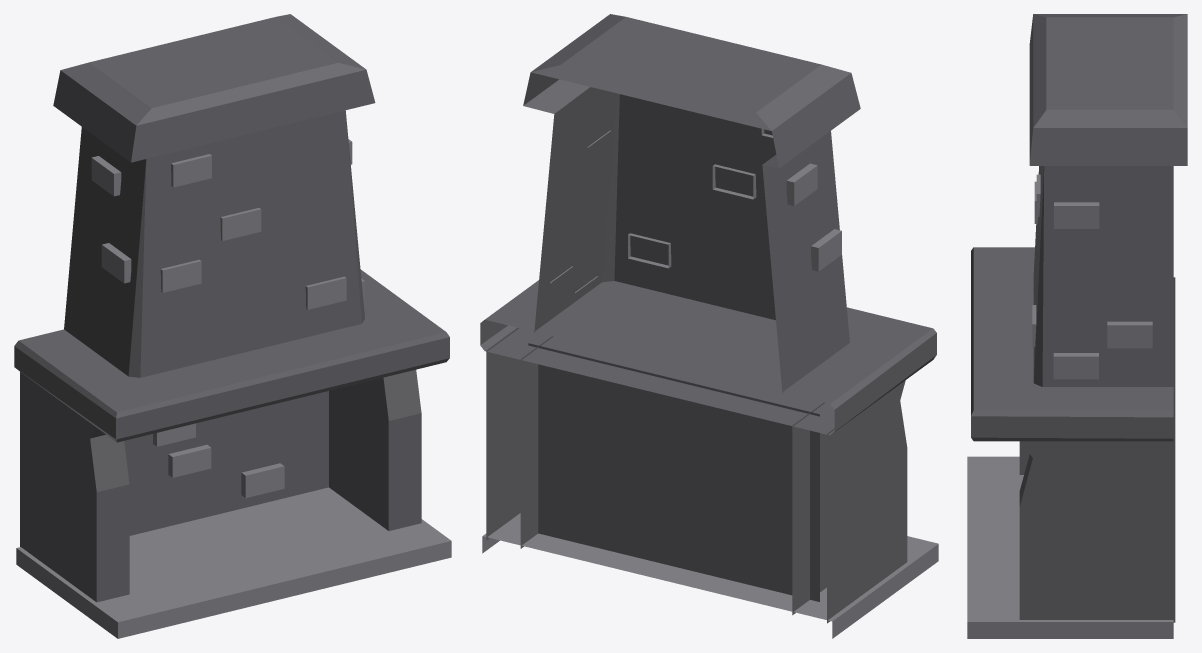
Rendered from FirePlace.fbx.
3 views of the same model, side by side, from view 1: azimuth 30°, elevation 25°; view 2: azimuth 150°, elevation 25°; view 3: azimuth 270°, elevation 25° (orthographic). The views are drawn at different scales.
Visible parts, largest first — view 1: pCube800; view 2: pCube800; view 3: pCube800.
Boxes of the visible parts, bbox=[...] form: pCube800: bbox=[14, 14, 451, 638]; pCube800: bbox=[480, 14, 938, 638]; pCube800: bbox=[967, 14, 1187, 638].
Bounding box in the file's own units: 255 × 349 × 141.
